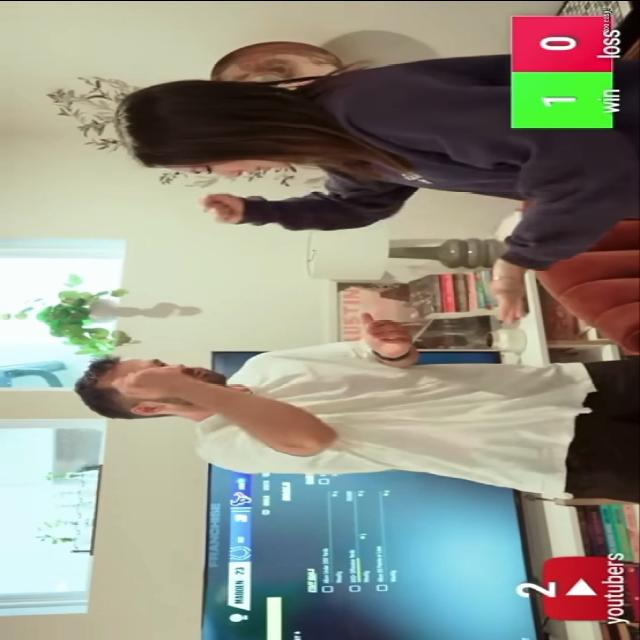Rock: (115, 367, 212, 398), (200, 191, 248, 224)
